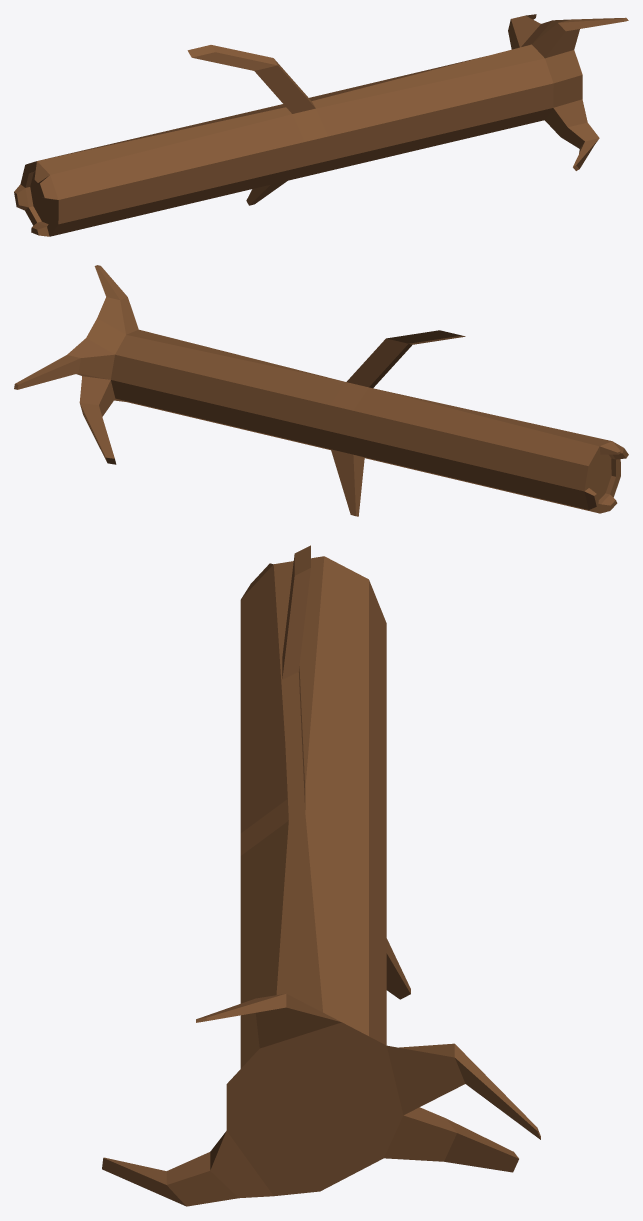
Rendered from Log2.fbx.
3 renders of one model, top to bottom at view 1: azimuth 30°, elevation 25°; view 2: azimuth 150°, elevation 25°; view 3: azimuth 270°, elevation 25°, orthographic. The views are drawn at different scales.
Visible parts, largest first — view 1: Cylinder.005; view 2: Cylinder.005; view 3: Cylinder.005.
Part boxes in pixels (box(x1,y1,x2,y2)): Cylinder.005: box(14, 14, 628, 236); Cylinder.005: box(14, 265, 628, 516); Cylinder.005: box(102, 545, 540, 1206).
Size of the model in its own units: 705 by 229 by 246.
